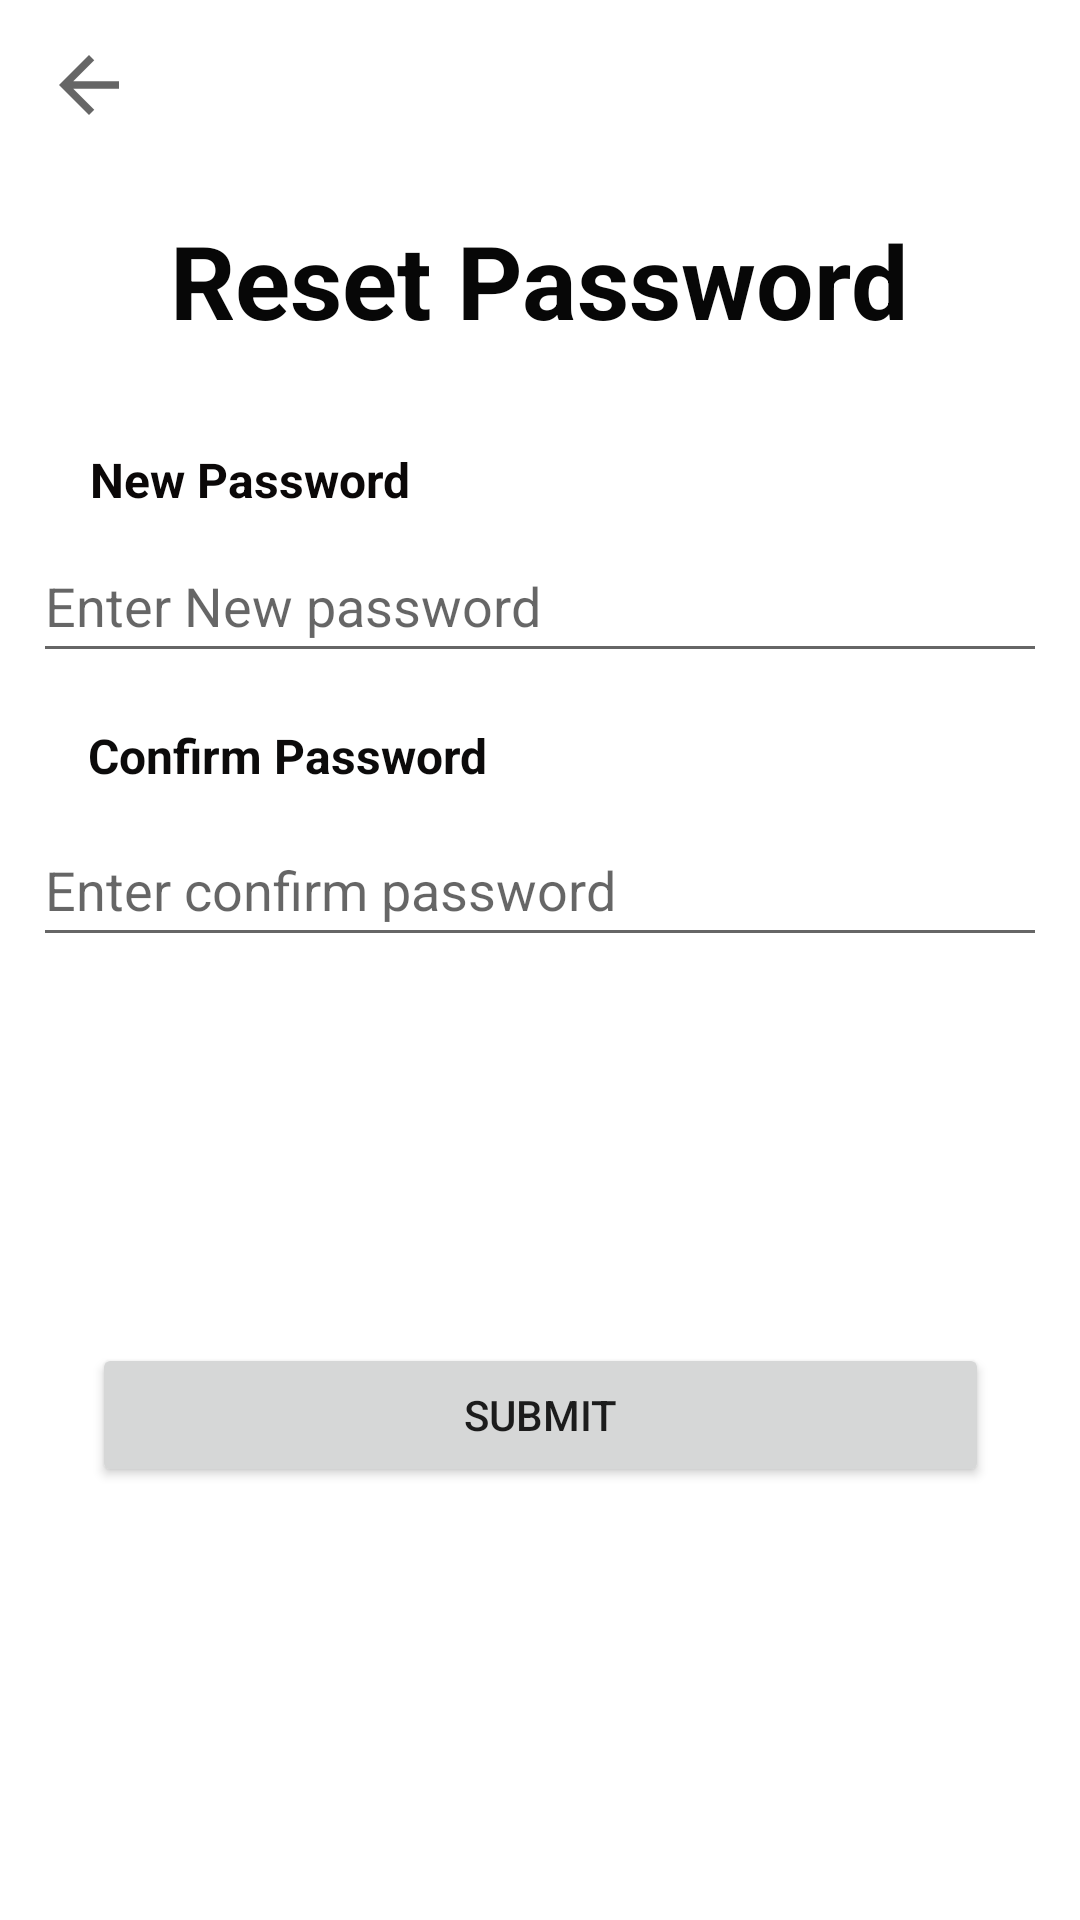

Named icons in this screenshot (1080x1920) and their bounding boxes, (x1, y1, x2, y2):
back button: (59, 55, 119, 115)
